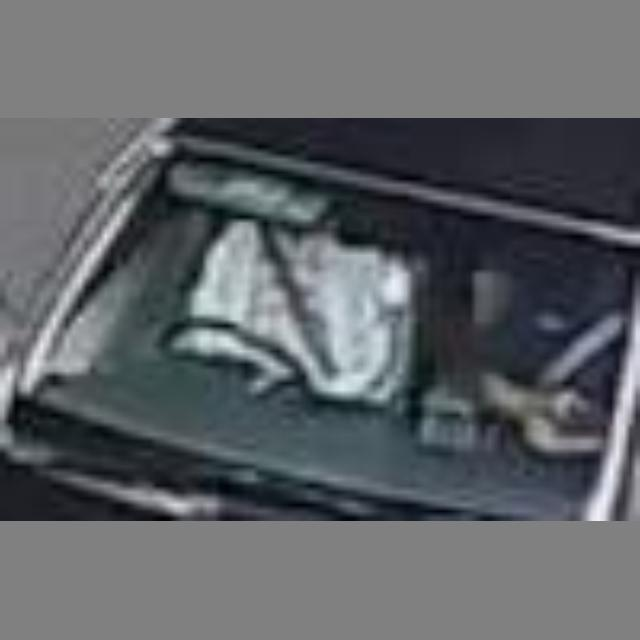pakai: (173, 182, 390, 393)
